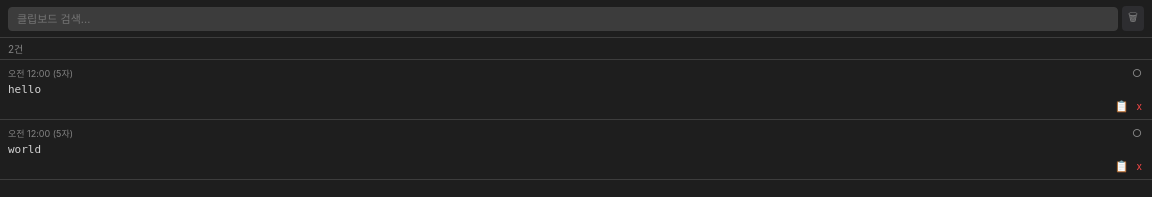
ClipboardPanel › 검색 중에는 필터된수/전체수 형식으로 표시된다
The image size is (1152, 197).
Type "hello" into the field with placeholder "클립보드 검색..." at (563, 18), box x1=8 y1=6 x2=1118 y2=30
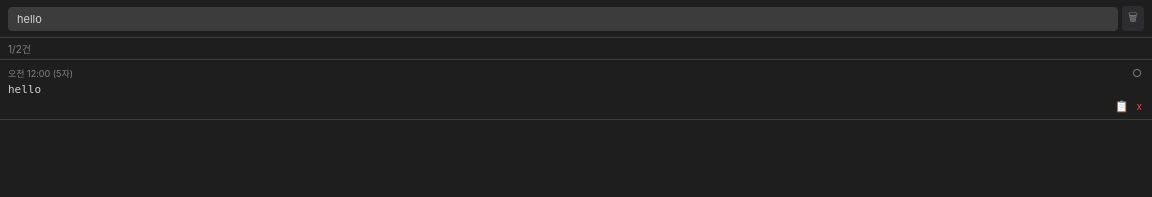
Check: the text "1/2건" is shown, box x1=8 y1=41 x2=31 y2=56
